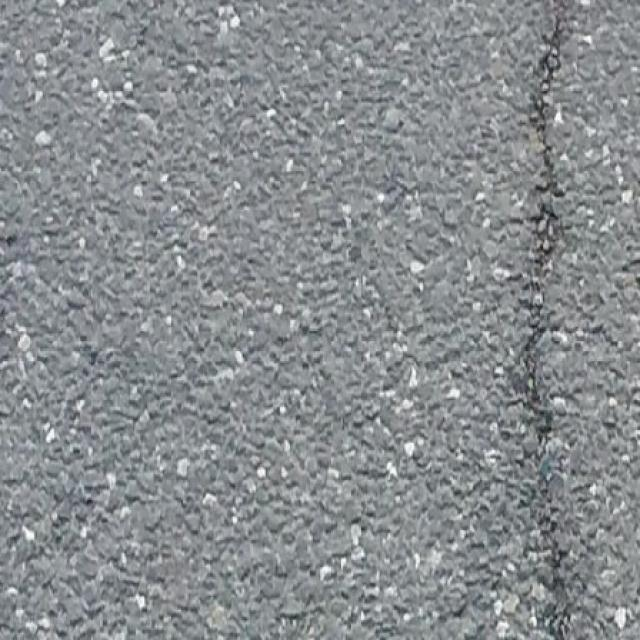Vertical Crack: (507, 0, 576, 640)
